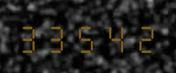five: (74, 20, 101, 53)
four: (102, 20, 129, 53)
three: (18, 20, 45, 53), (46, 20, 73, 53)
two: (130, 20, 157, 53)
